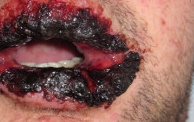SJS-TEN: (0, 50, 148, 122), (0, 0, 149, 56)
